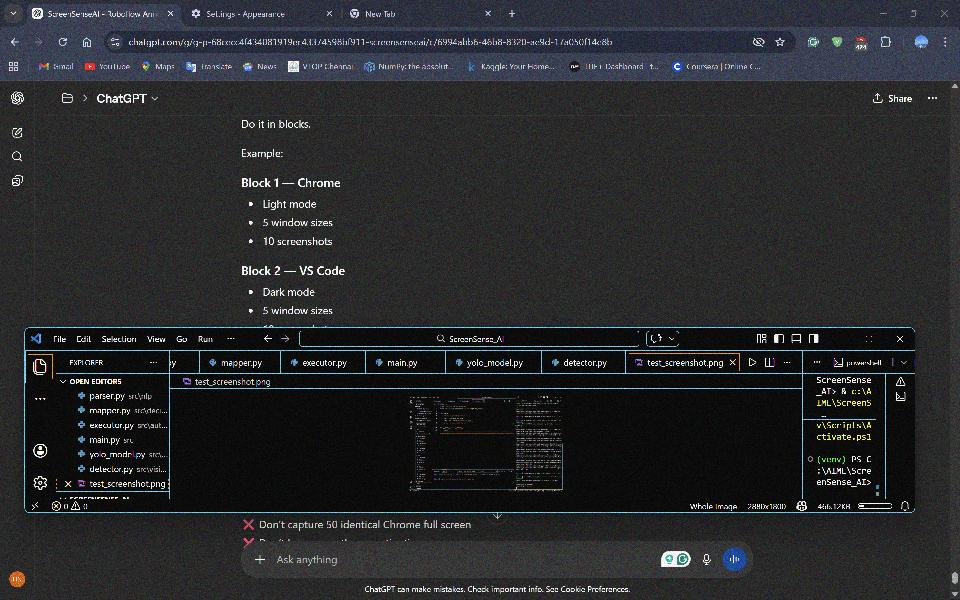close_button: (936, 3, 953, 24), (890, 329, 908, 348)
maximize_button: (905, 3, 925, 23), (859, 330, 880, 349)
minimize_button: (872, 3, 898, 25), (831, 330, 850, 348)
